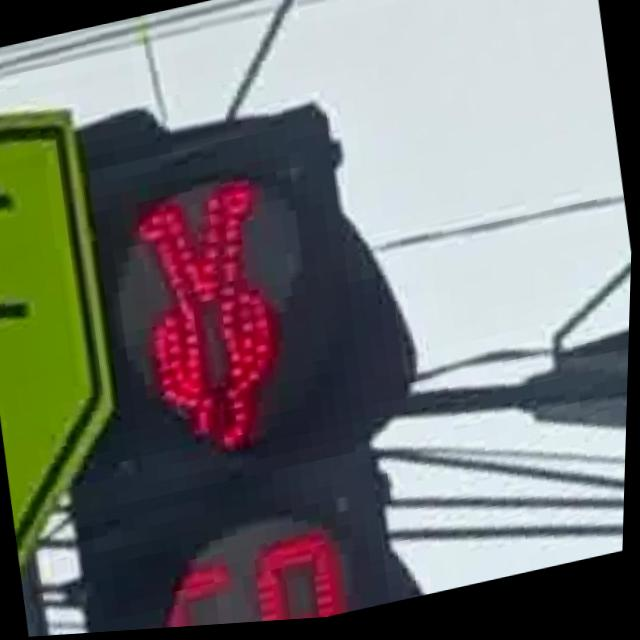red_light: (118, 173, 324, 486)
